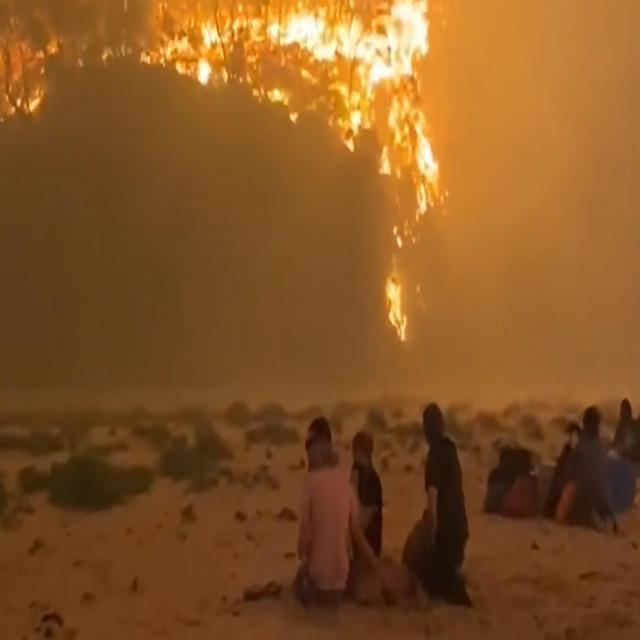Fire: (137, 0, 457, 226), (0, 0, 53, 126), (380, 252, 414, 350)
